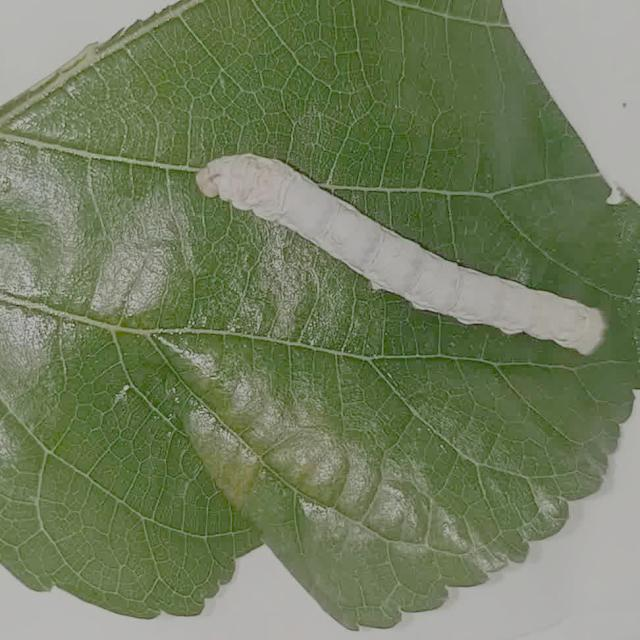Healthy: (174, 124, 622, 401)
